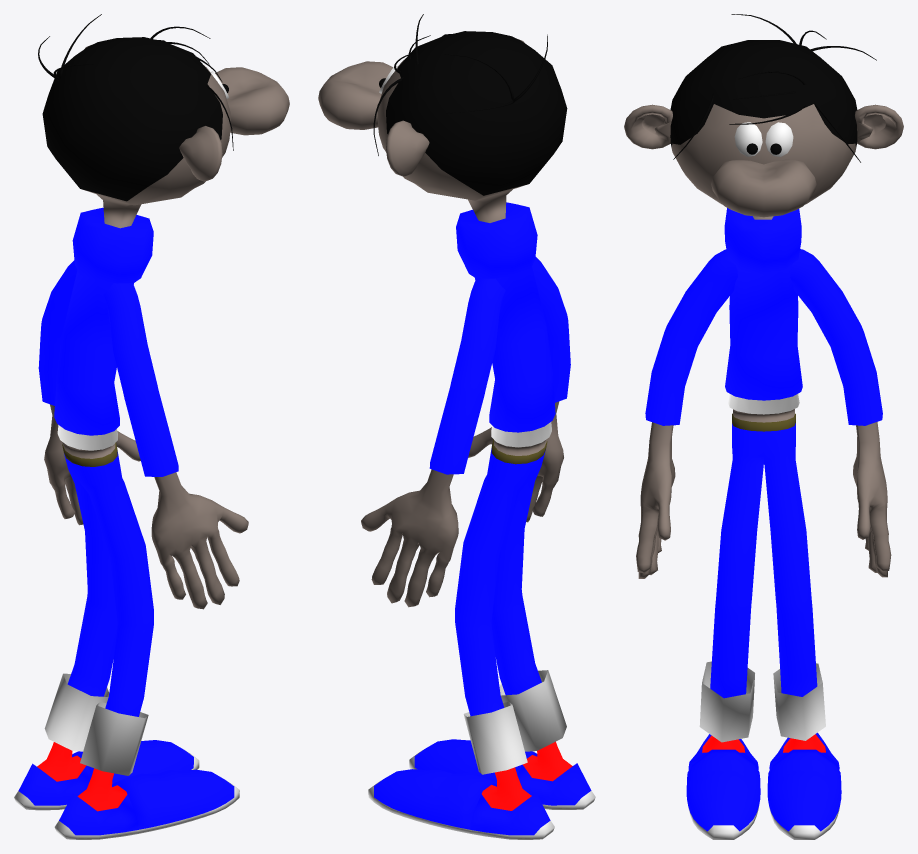
Rendered from spectator_blue_short.dae.
The picture shows the model from 3 angles, left to right: view 1: azimuth 30°, elevation 25°; view 2: azimuth 150°, elevation 25°; view 3: azimuth 270°, elevation 25°; orthographic projection.
Visible parts, largest first — view 1: Spectator; view 2: Spectator; view 3: Spectator.
Boxes of the visible parts, box(x1,y1,x2,y2) form: Spectator: box(14, 14, 289, 839); Spectator: box(318, 14, 595, 839); Spectator: box(624, 14, 903, 839).
Size of the model in its own units: 0.4 by 0.4 by 1.2.
